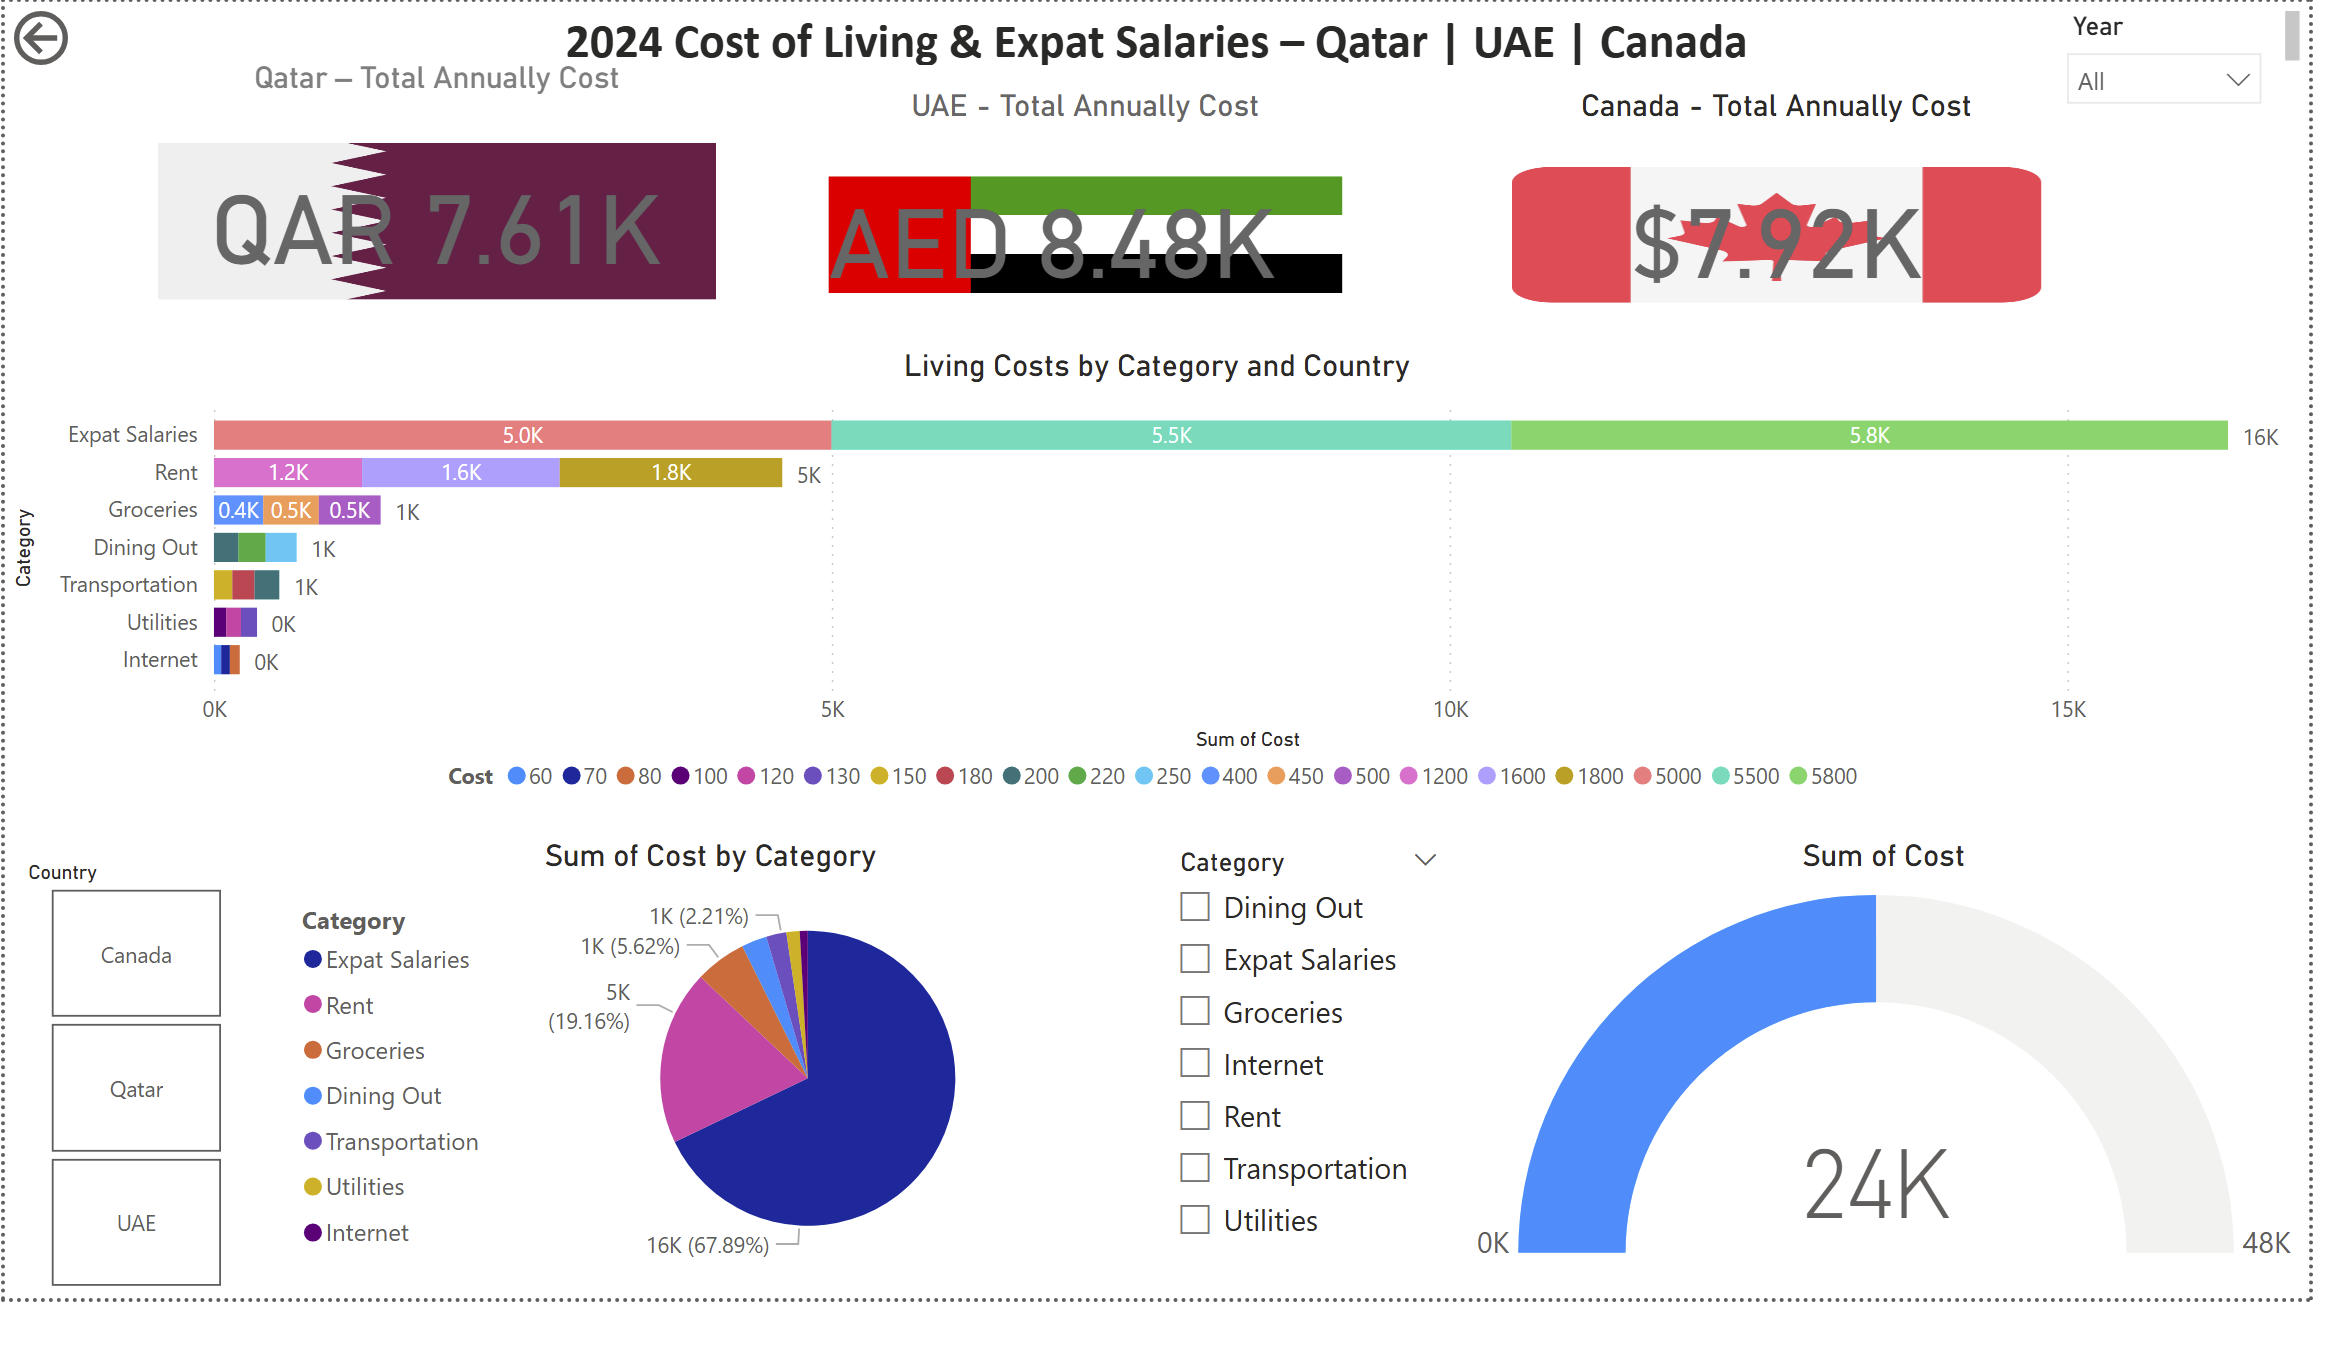

What the dashboard file says about the page in this screenshot:
{"tool":"powerbi","page":{"name":"Page 1","canvas":[1280,720],"ordinal":0},"visuals":[{"type":"textbox","box":[8,0,1272,40],"z":0},{"type":"actionButton","box":[0,0,100,40],"z":1000},{"type":"cardVisual","title":"Qatar – Total Annually Cost","fields":{"Data":["Sheet1.Qatar"]},"box":[80,32,320,160],"z":2000},{"type":"cardVisual","title":"UAE - Total Annually Cost","fields":{"Data":["Sheet1.UAE"]},"box":[432,48,336,144],"z":3000},{"type":"cardVisual","title":"Canada - Total Annually Cost","fields":{"Data":["Sheet1.Canada"]},"box":[832,48,304,144],"z":4000},{"type":"barChart","title":"Living Costs by Category and Country","fields":{"Category":["Sheet1.Category"],"Y":["Sum(Sheet1.Cost)"],"Series":["Sheet1.Cost"]},"box":[0,192,1280,256],"z":5000},{"type":"pieChart","fields":{"Category":["Sheet1.Category"],"Y":["Sum(Sheet1.Cost)"]},"box":[160,464,464,248],"z":6000},{"type":"slicer","fields":{"Values":["Sheet1.Country"]},"box":[0,472,144,248],"z":7000},{"type":"slicer","fields":{"Values":["Sheet1.Category"]},"box":[640,464,168,248],"z":8000},{"type":"slicer","fields":{"Values":["Sheet1.Year"]},"box":[1152,48,128,96],"z":9000},{"type":"gauge","fields":{"Y":["Sum(Sheet1.Cost)"]},"box":[808,464,472,248],"z":10000}]}

Visuals, with their boxes in screenshot pixels (x1, y1, x2, y2), scaled from the page's 1280x720 canvas onto the 2332x1346 screenshot:
textbox: [15,0,2331,75]
actionButton: [0,0,182,75]
"Qatar – Total Annually Cost" cardVisual: [146,60,729,359]
"UAE - Total Annually Cost" cardVisual: [787,90,1399,359]
"Canada - Total Annually Cost" cardVisual: [1516,90,2070,359]
"Living Costs by Category and Country" barChart: [0,359,2331,838]
pieChart - Sheet1.Category x Sum(Sheet1.Cost): [292,867,1137,1331]
slicer - Sheet1.Country: [0,882,262,1345]
slicer - Sheet1.Category: [1166,867,1472,1331]
slicer - Sheet1.Year: [2099,90,2331,269]
gauge - Sum(Sheet1.Cost): [1472,867,2331,1331]
